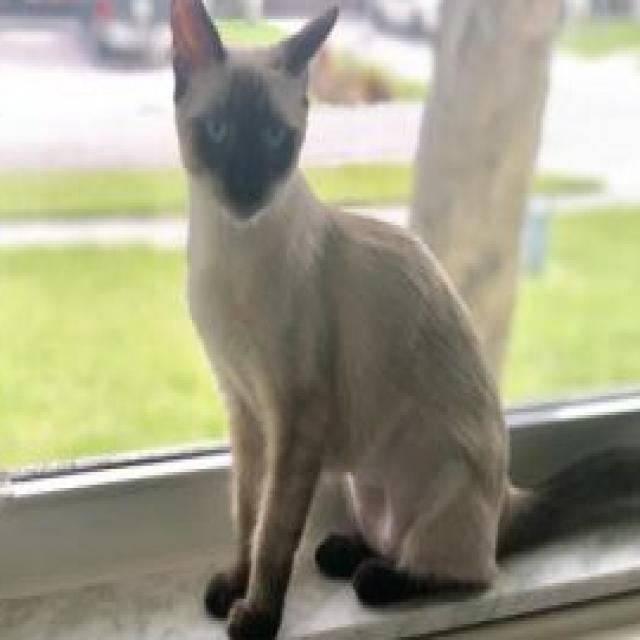Siamese: (166, 0, 640, 640)
